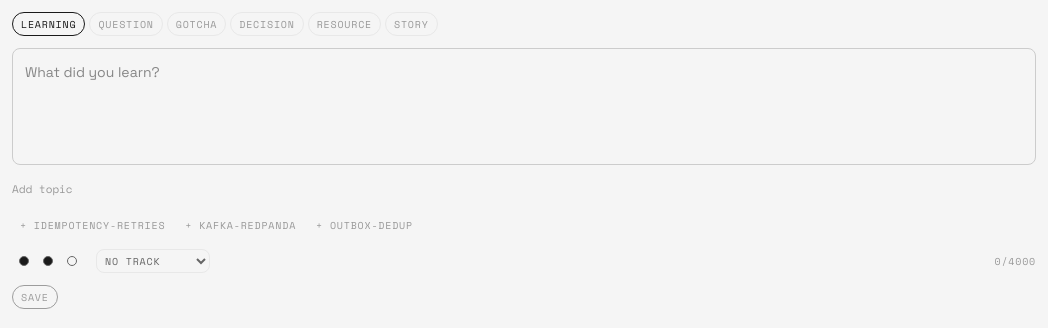
Test: NoteComposer › submits with Cmd+Enter, resets and shows SAVED
This screenshot has width=1048, height=328.
Type "Go Concurrency" into the field labelled "topic" at (524, 189), box [12,177,1036,201]
Then press Enter
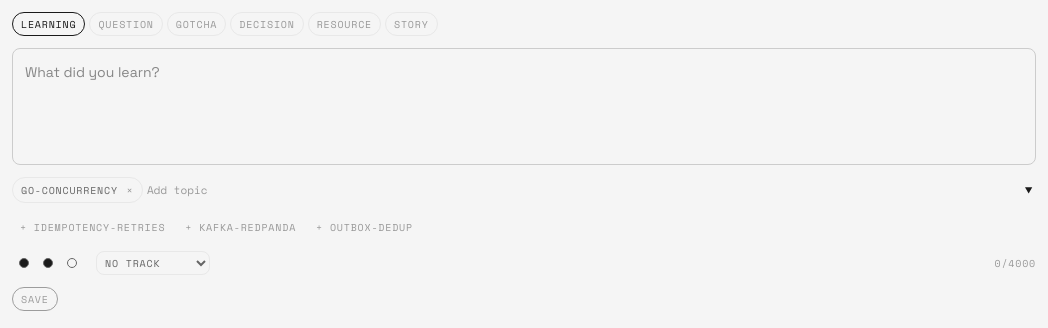
Type "Channels block" into the text box named "Note" at (524, 106), box [12,48,1036,165]
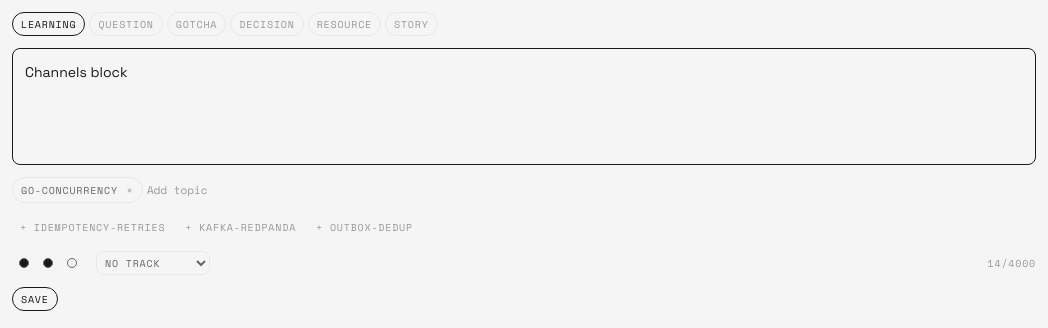
Type keys "{Meta>}{Enter}{/Meta}"
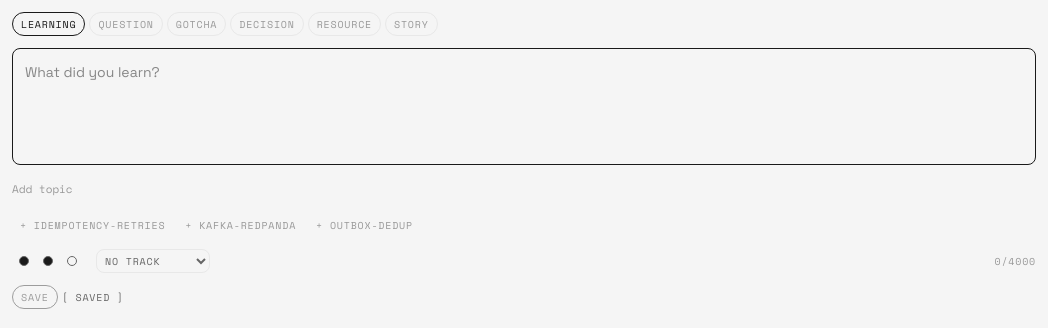
Result: the text "[ SAVED ]" is shown at [62,290,124,304]
Result: the text box named "Note" is empty at [12,48,1036,165]
Result: the text "go-concurrency" is gone
